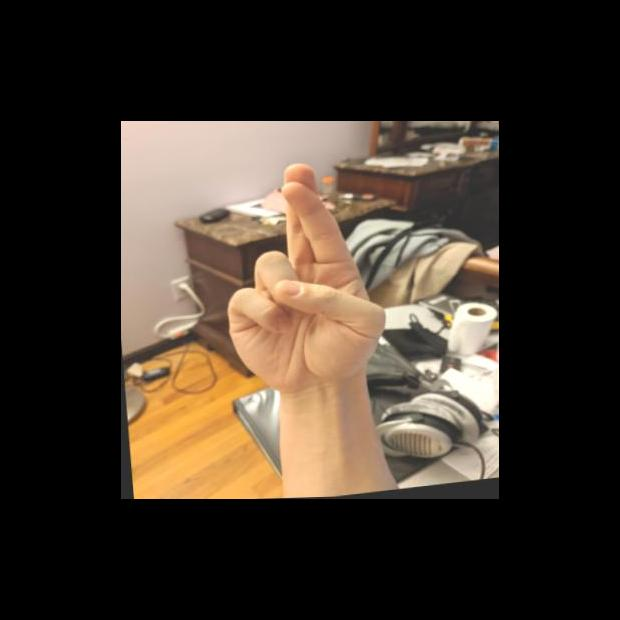Q: (209, 152, 400, 403)
